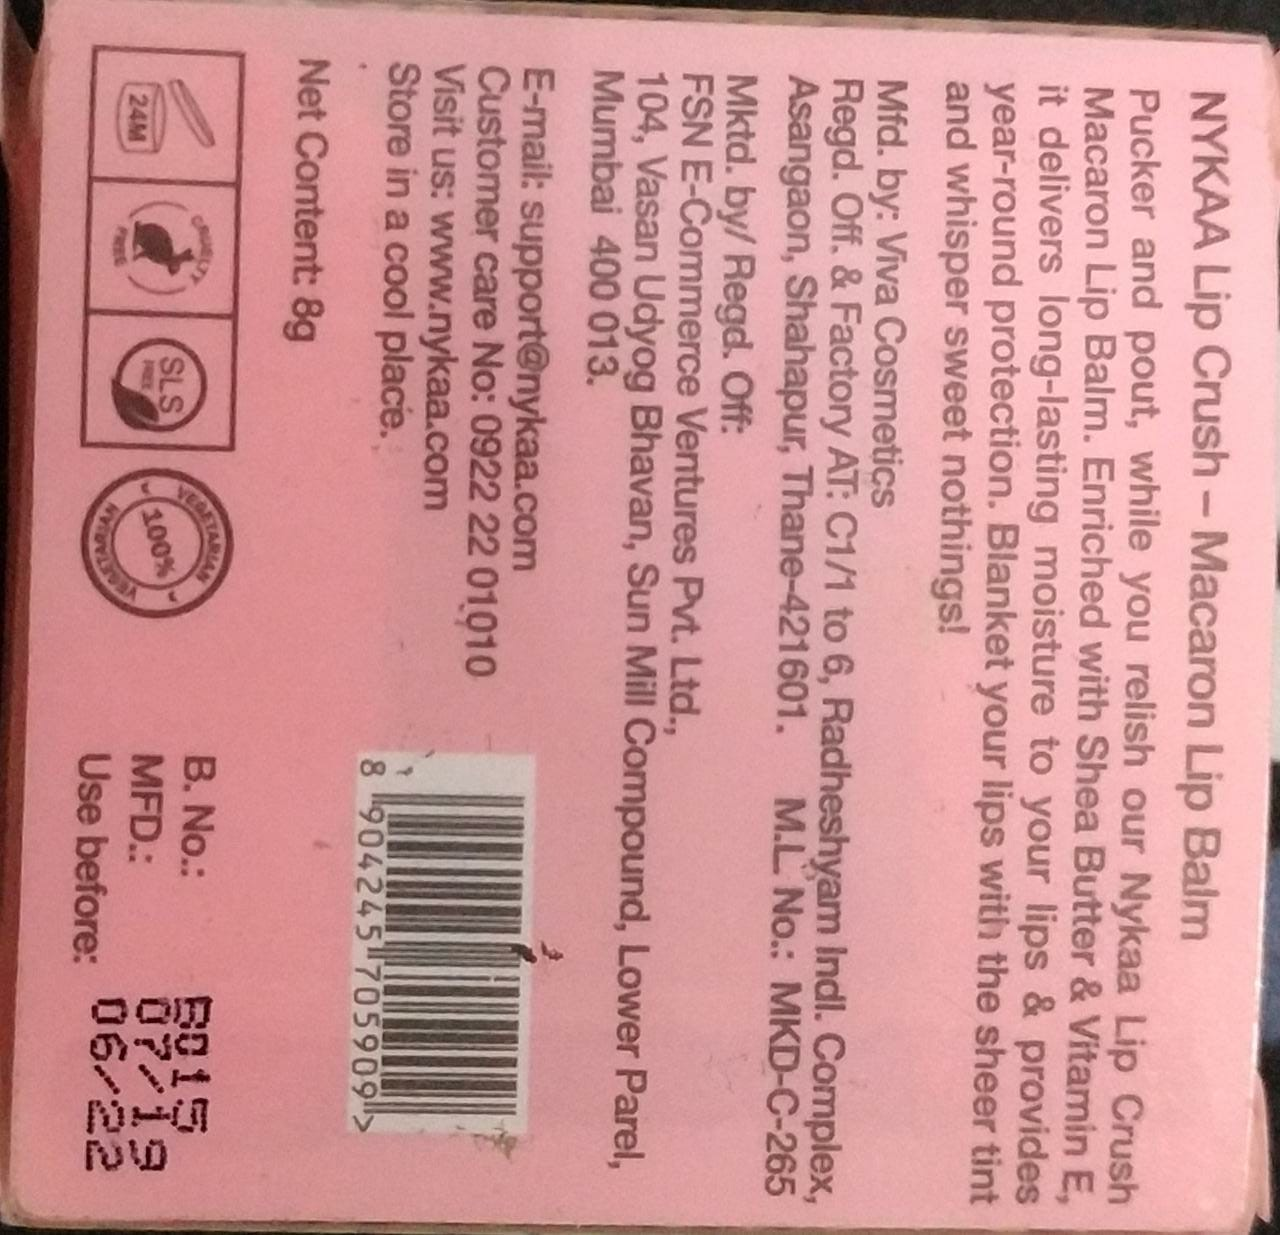barcode: (354, 754, 529, 1147)
